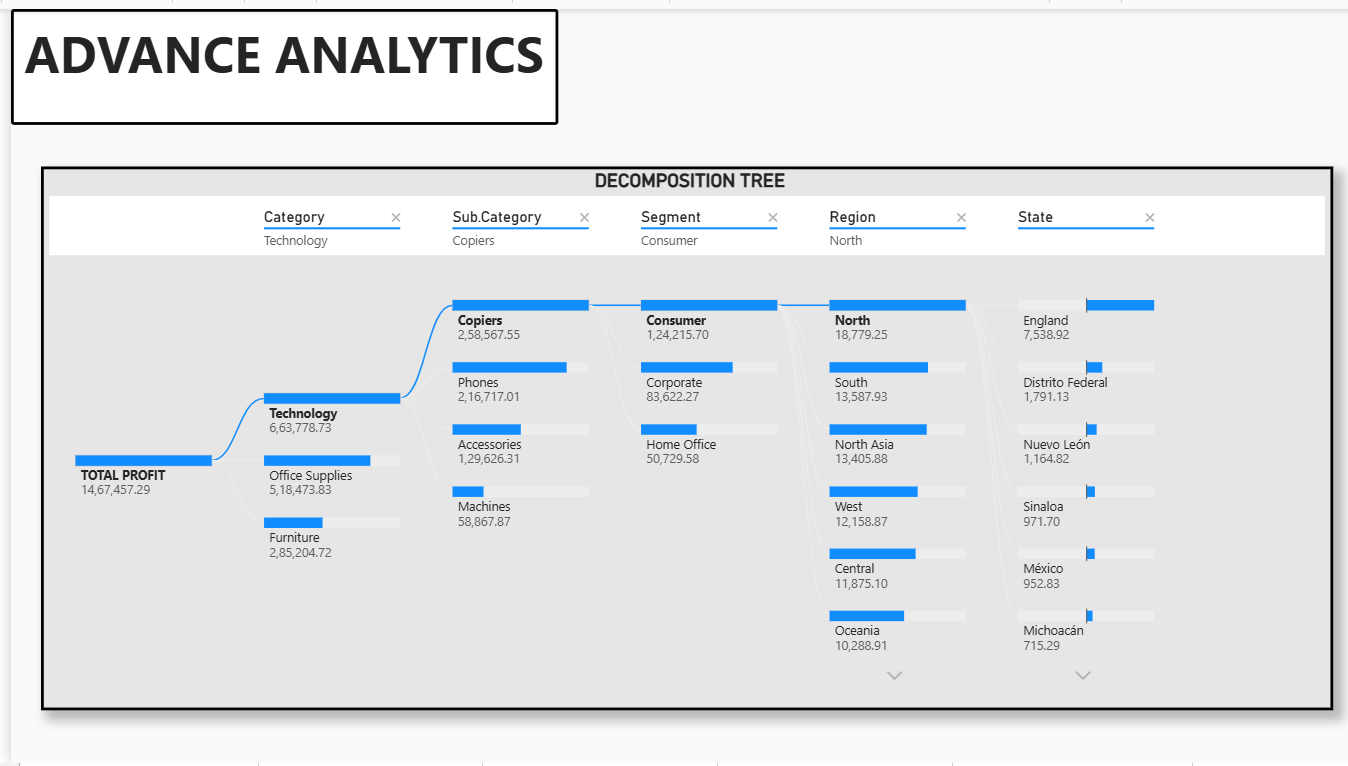

Layout of this report page (visuals, bound fields, positions):
{"tool":"powerbi","page":{"name":"ADVANCE ANALYTICS","canvas":[1280,720],"ordinal":4},"visuals":[{"type":"textbox","box":[0,0,522.4,110.5],"z":0},{"type":"decompositionTreeVisual","title":"DECOMPOSITION TREE","fields":{"Analyze":["Sum(superstore.Profit)"],"ExplainBy":["superstore.Category","superstore.Sub.Category","superstore.Segment","superstore.Region","superstore.State"]},"box":[28.8,149.9,1234.1,519.4],"z":1}]}

Visuals, with their boxes in screenshot pixels (x1, y1, x2, y2), scaled from the page's 1280x720 canvas onto the 1348x766 screenshot:
textbox: [x1=0, y1=0, x2=550, y2=118]
"DECOMPOSITION TREE" decompositionTreeVisual: [x1=30, y1=159, x2=1330, y2=712]
